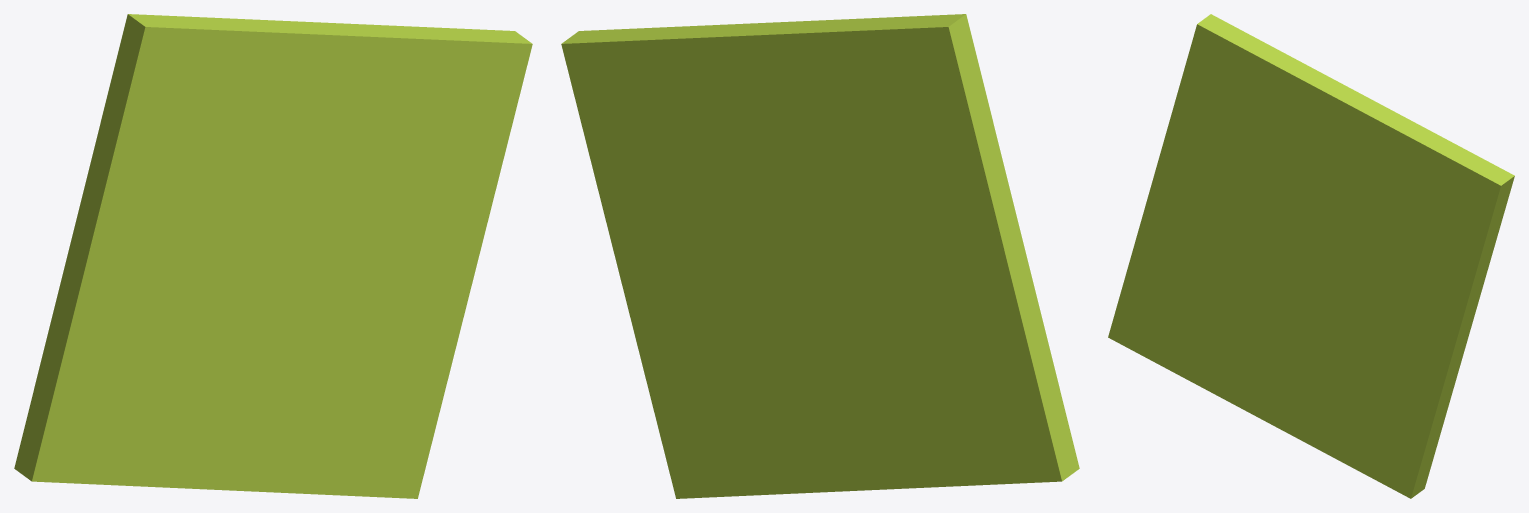
3 renders of one model, left to right at view 1: azimuth 30°, elevation 25°; view 2: azimuth 150°, elevation 25°; view 3: azimuth 330°, elevation 25°, orthographic. The views are drawn at different scales.
Visible parts, largest first — view 1: osm-way27917482-F3; view 2: osm-way27917482-F3; view 3: osm-way27917482-F3.
Part boxes in pixels (x1,y1,x2,y2): osm-way27917482-F3: (14,14,532,498); osm-way27917482-F3: (561,14,1079,498); osm-way27917482-F3: (1108,14,1514,498).
Size of the model in its own units: 2.46 by 2.52 by 0.15.
